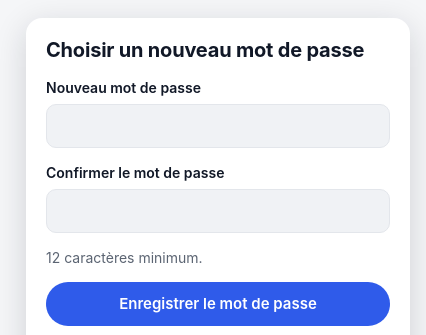
Test case: AccountMenu › nouveau mot de passe (arrivée par le lien de l’e-mail) › lien expiré : message de l’API
(page scrolled)
Type "nouveau-mot-de-passe" into the password field labelled "Nouveau mot de passe" at [218, 126], box [46,104,390,148]
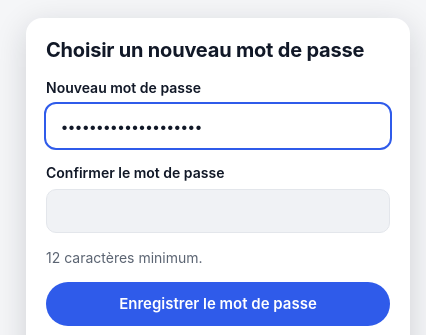
Type "nouveau-mot-de-passe" into the password field labelled "Confirmer le mot de passe" at [218, 211], box [46,189,390,233]
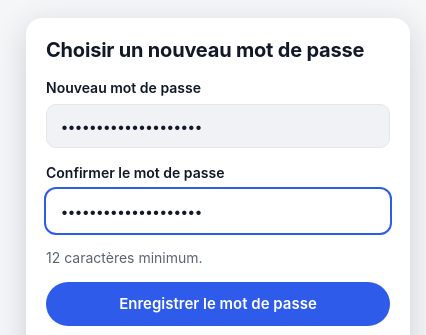
Click the button "Enregistrer le mot de passe" at [218, 304], box [46,282,390,326]
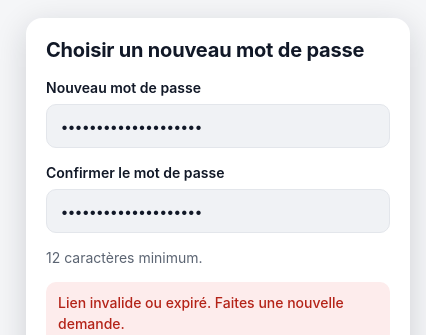
Expected: the message reads "Lien invalide ou expiré. Faites une nouvelle demande.", [58,294,344,332]
